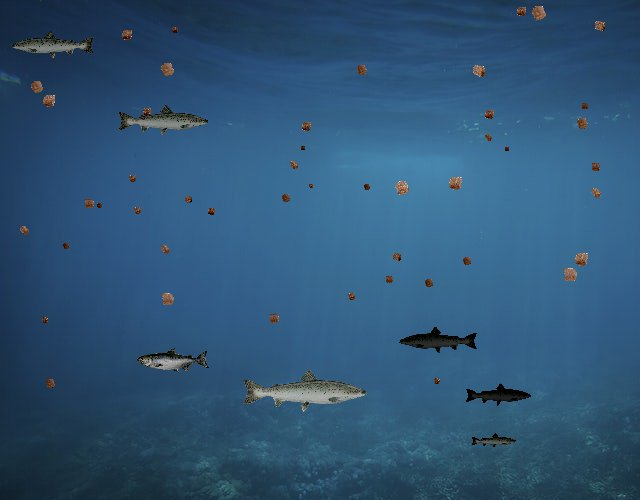Fish: (240, 367, 369, 413), (117, 104, 211, 138), (10, 29, 96, 60), (399, 326, 480, 355), (138, 348, 211, 374), (464, 383, 532, 407), (471, 433, 518, 450)
Pellet: (441, 170, 470, 199), (567, 245, 595, 273), (465, 58, 492, 85), (570, 112, 594, 136), (296, 117, 317, 138), (457, 252, 476, 271), (343, 288, 360, 305), (38, 313, 52, 327)
